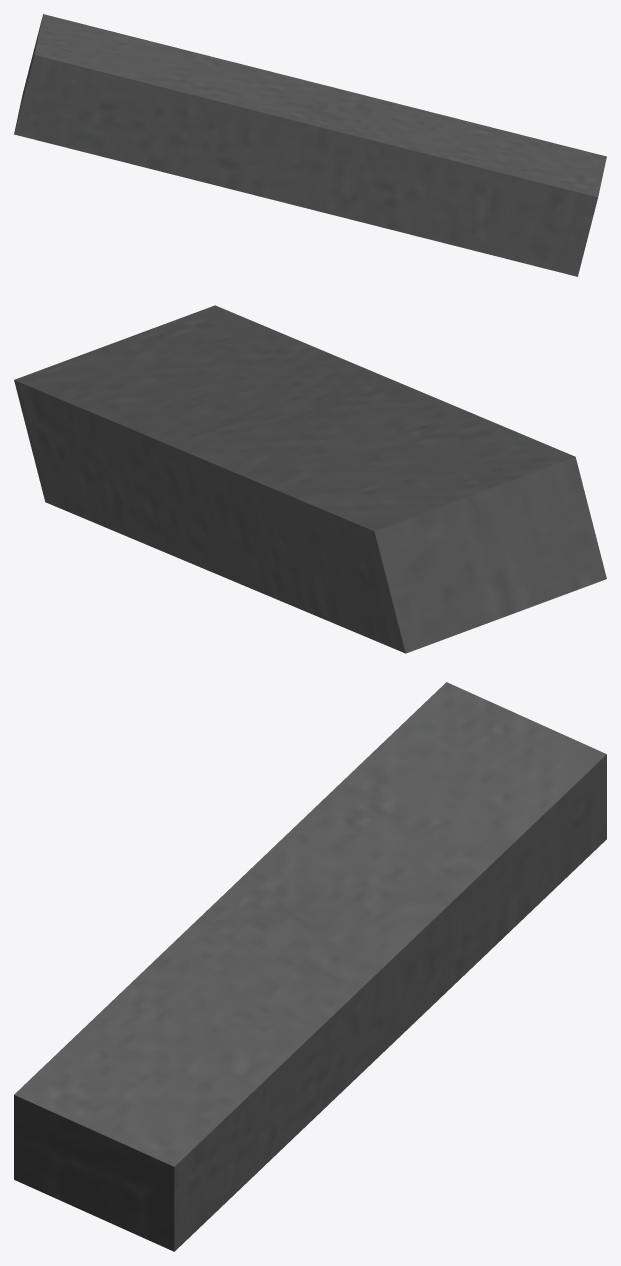
File: frame__support_brace_1.glb
3 renders of one model, top to bottom at view 1: azimuth 30°, elevation 25°; view 2: azimuth 150°, elevation 25°; view 3: azimuth 270°, elevation 25°, orthographic. The views are drawn at different scales.
Parts seen in each view (by area): view 1: world; view 2: world; view 3: world.
Part boxes in pixels (bbox=[...]): world: bbox=[14, 14, 606, 276]; world: bbox=[14, 305, 606, 653]; world: bbox=[14, 682, 606, 1251].
Size of the model in its own units: 0.1716 by 0.072 by 0.1371.
Materials: 1 (1 with a texture image).
